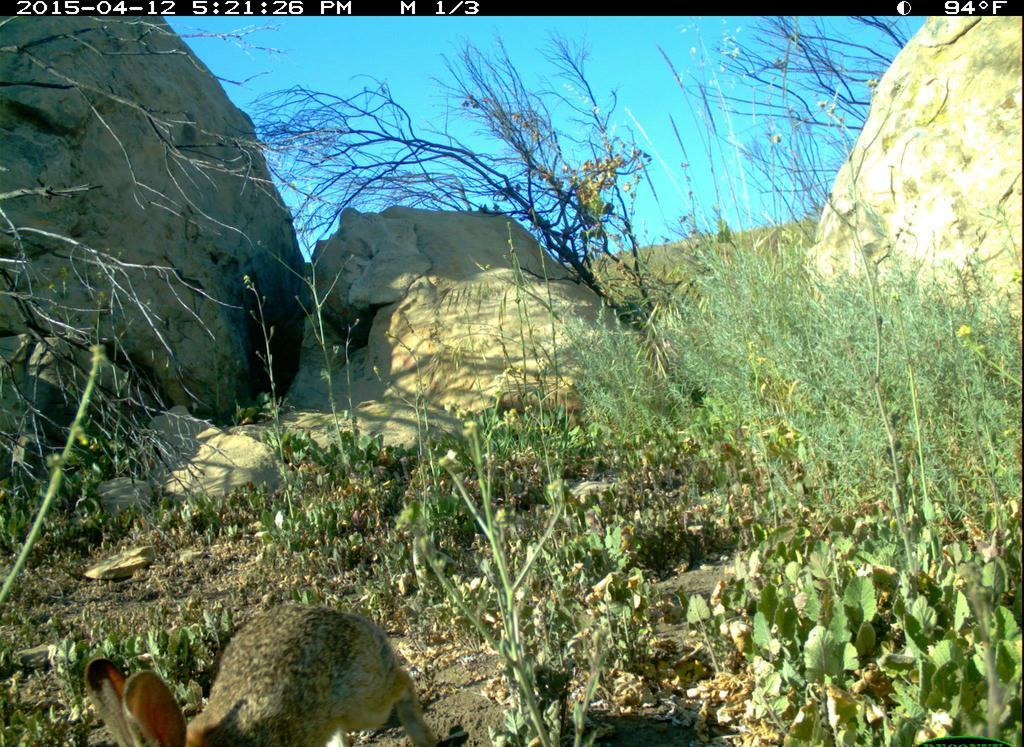rabbit: (68, 598, 450, 745)
